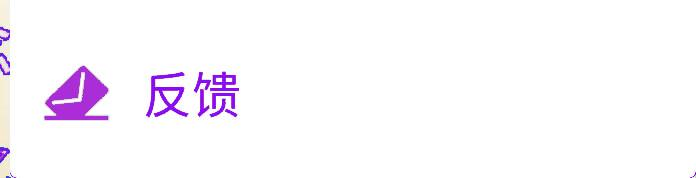CheckedTextView: (1, 1, 695, 177)
